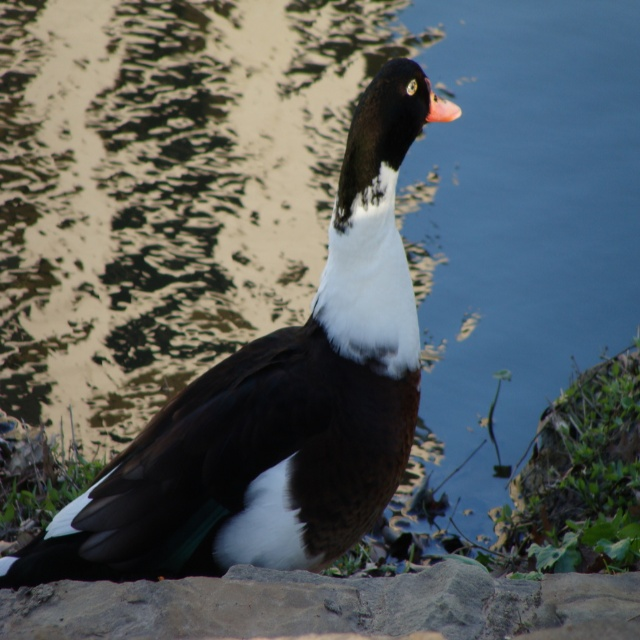Duck: (0, 57, 463, 579)
